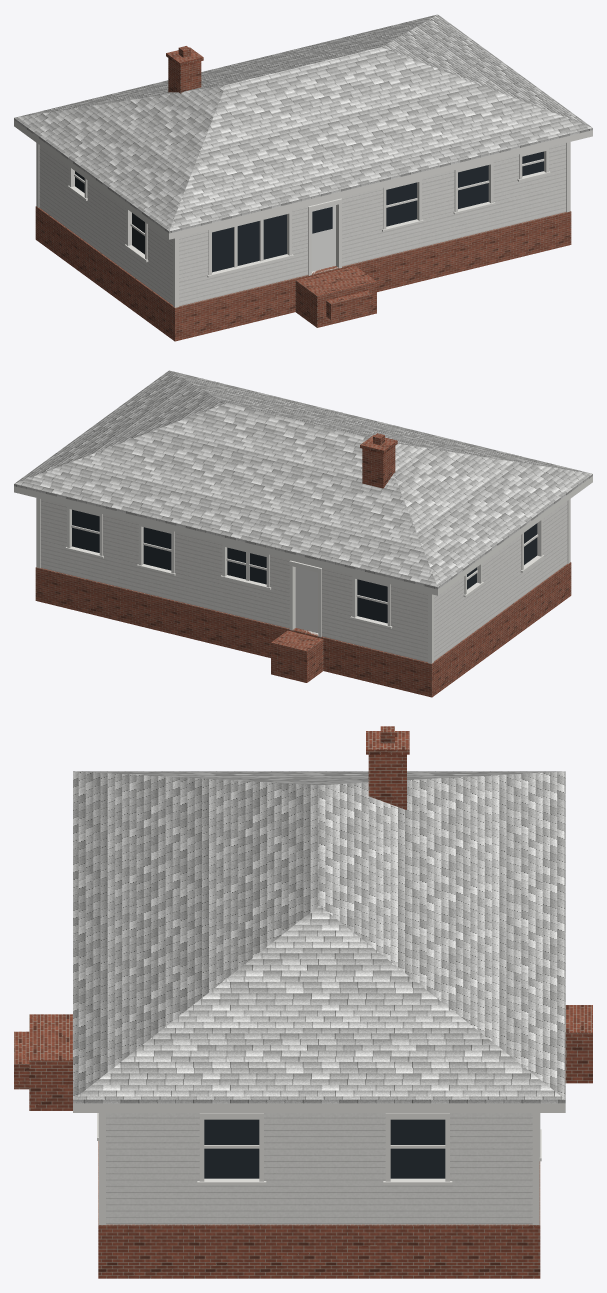
Rendered from house-ranch.glb.
3 renders of one model, top to bottom at view 1: azimuth 30°, elevation 25°; view 2: azimuth 150°, elevation 25°; view 3: azimuth 270°, elevation 25°, orthographic. The views are drawn at different scales.
Parts seen in each view (by area): view 1: House; view 2: House; view 3: House.
Part boxes in pixels (<box>): House: <box>14,14,592,341</box>; House: <box>14,370,592,697</box>; House: <box>14,726,592,1278</box>.
Size of the model in its own units: 14.2 by 6.46 by 10.58.
6 materials, 3 textured.
